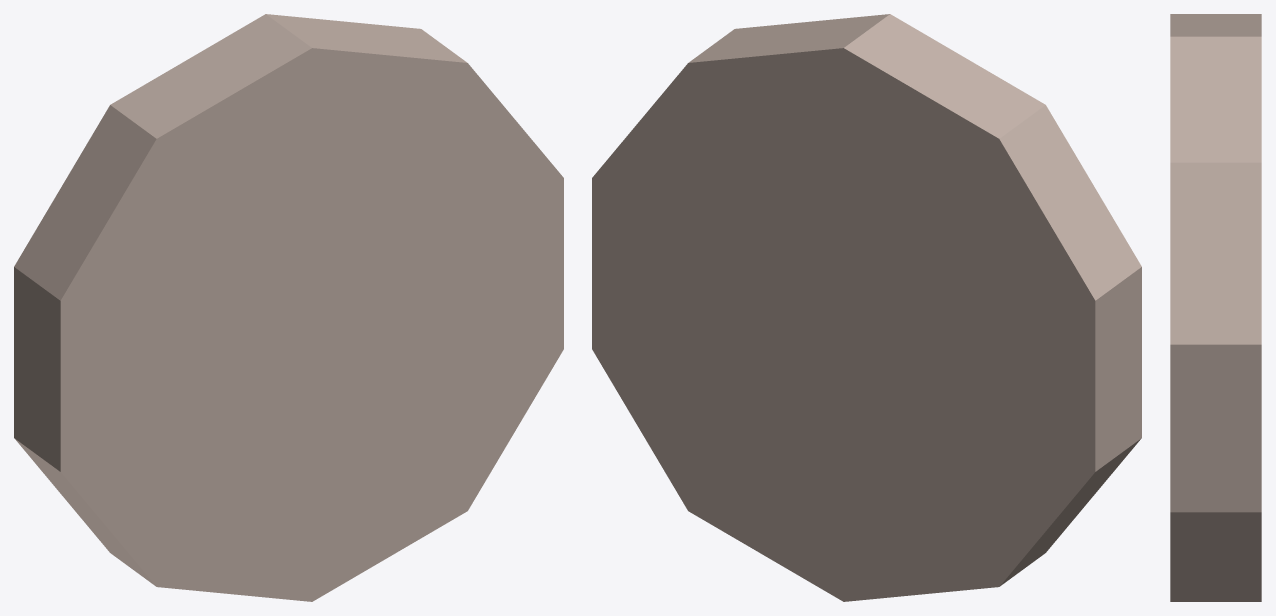
The model's file is coin.obj.
3 views of the same model, side by side, from view 1: azimuth 30°, elevation 25°; view 2: azimuth 150°, elevation 25°; view 3: azimuth 270°, elevation 25° (orthographic). The views are drawn at different scales.
Visible parts, largest first — view 1: Cylinder; view 2: Cylinder; view 3: Cylinder.
Part boxes in pixels (left/top/right/bottom): Cylinder: left=14, top=14, right=563, bottom=601; Cylinder: left=592, top=14, right=1141, bottom=601; Cylinder: left=1170, top=14, right=1261, bottom=601.
Size of the model in its own units: 0.1626 by 0.171 by 0.026.
Materials: 1 (1 with a texture image).
